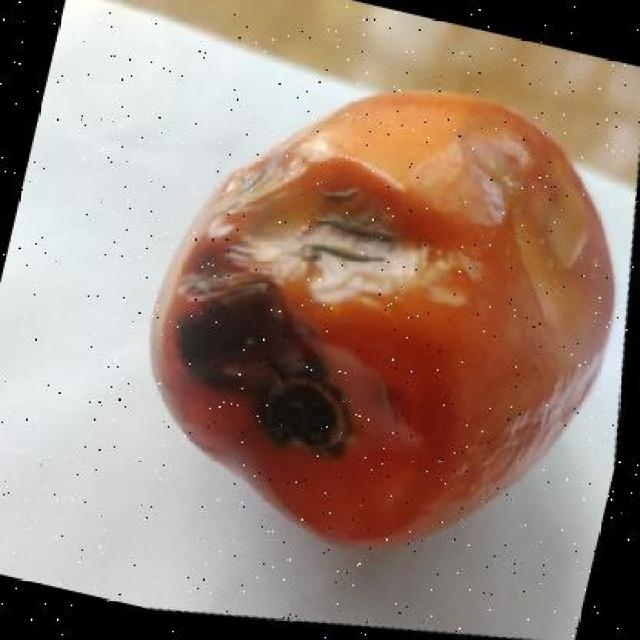overripe tomato: (136, 77, 622, 558)
